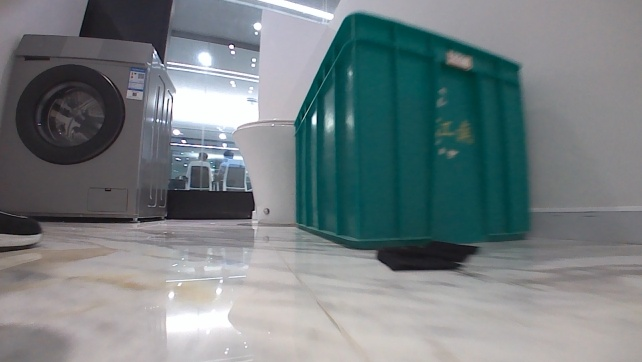socks: (374, 233, 483, 274)
toilet: (225, 119, 298, 225)
washing_machine: (0, 31, 175, 225)
